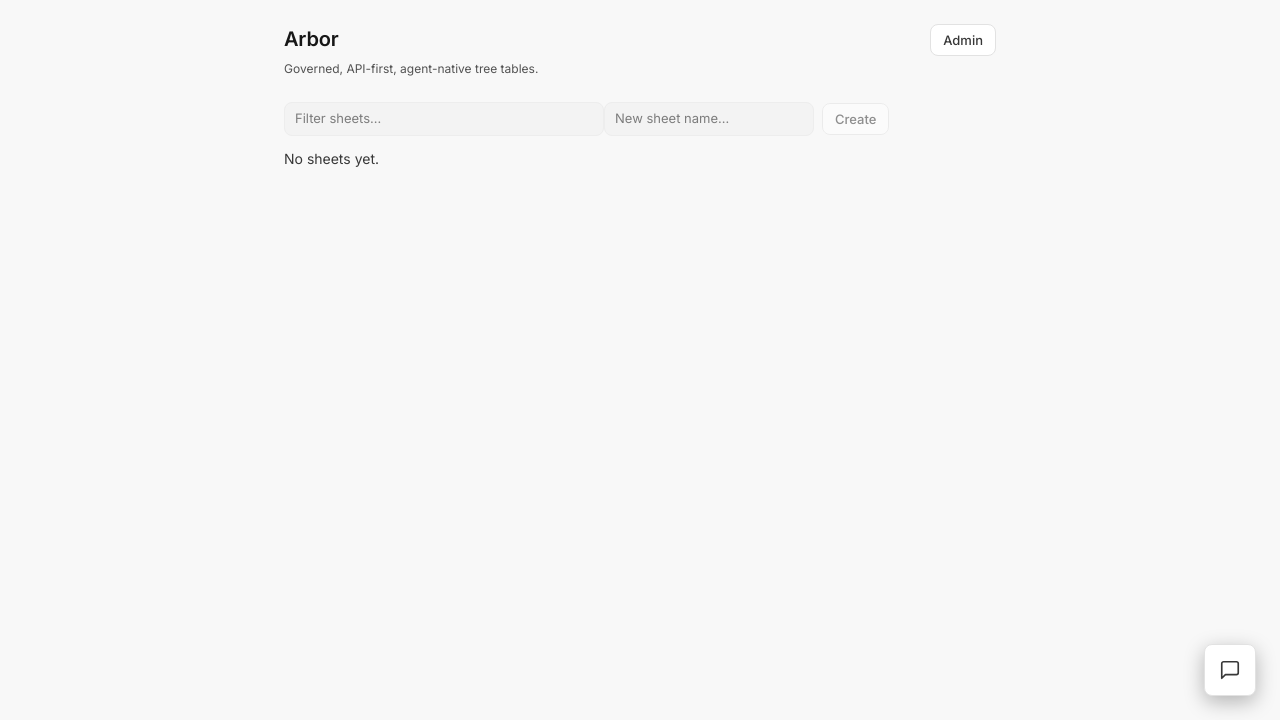
Test: home Admin entry › admin sees the Admin button and it opens the Admin modal
Click the button with test id "home-admin-button" at coordinates (963, 40), box [930,24,996,56]
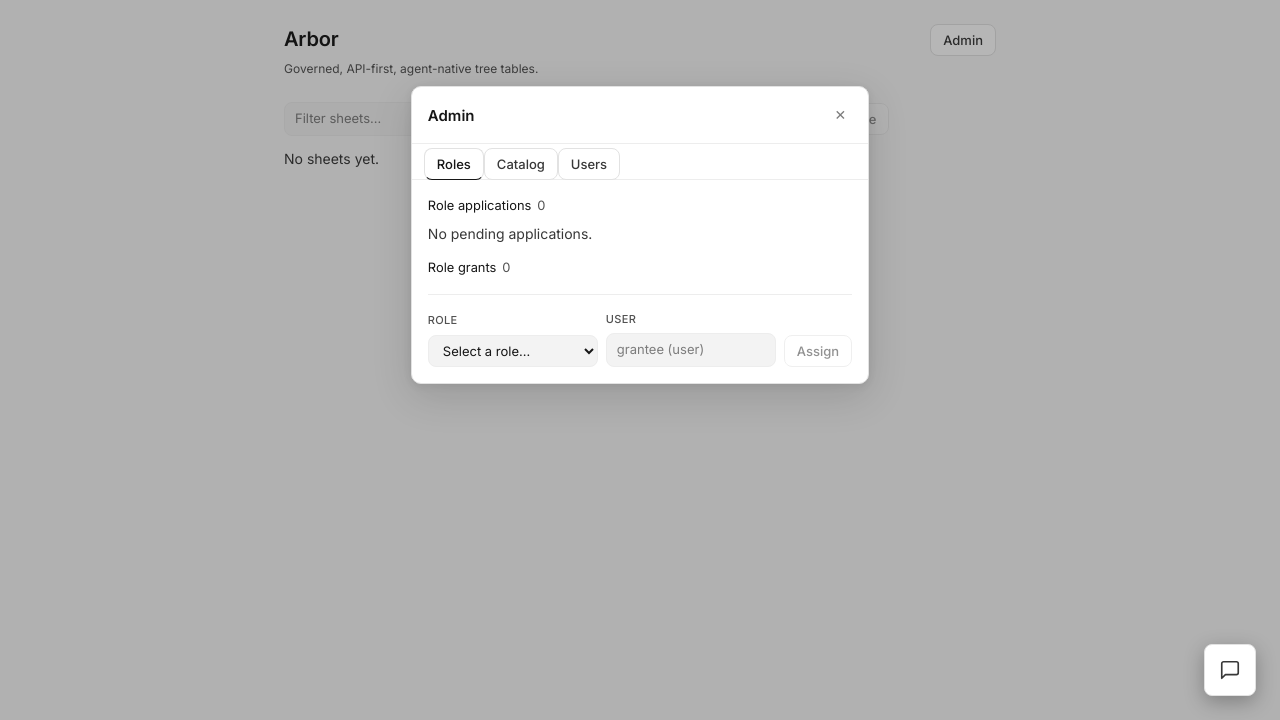
Expected: the navigation bar with test id "admin-tabs" is shown, [412,144,868,180]
